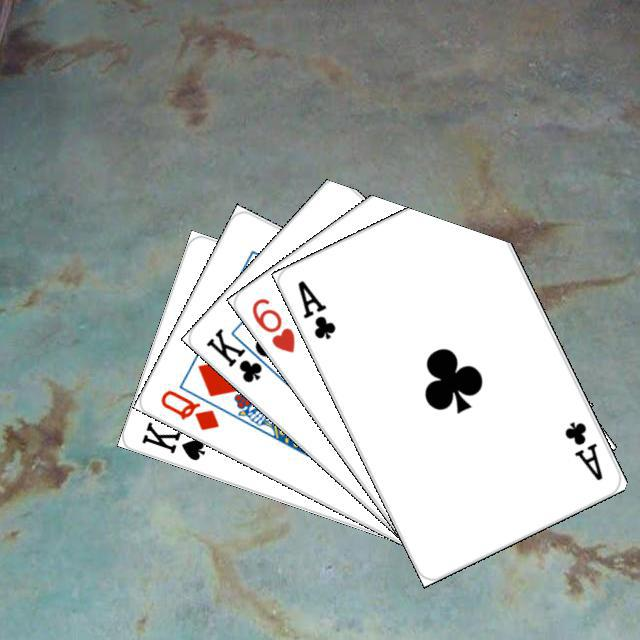6h: (246, 293, 297, 355)
Ac: (292, 275, 338, 341), (559, 416, 605, 482)
Kc: (200, 323, 277, 385)
Ks: (136, 416, 207, 462)
Qd: (155, 385, 221, 432)
